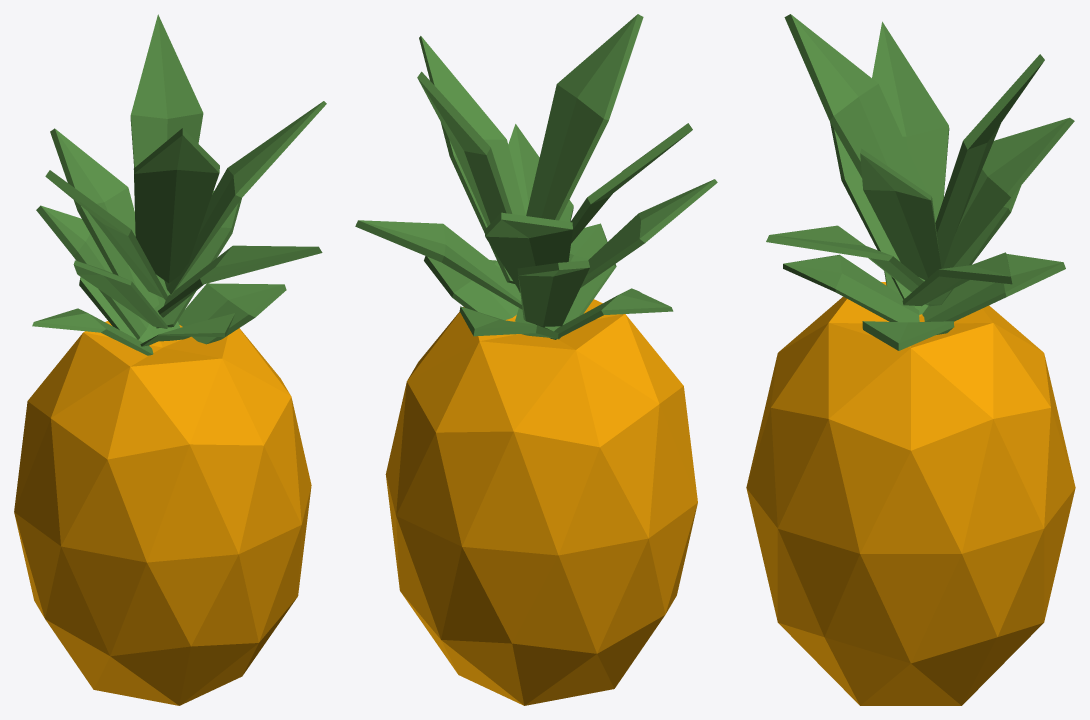
File: Pineapple_01.fbx
3 renders of one model, left to right at view 1: azimuth 30°, elevation 25°; view 2: azimuth 150°, elevation 25°; view 3: azimuth 270°, elevation 25°, orthographic. The views are drawn at different scales.
Parts seen in each view (by area): view 1: Pineapple_01; view 2: Pineapple_01; view 3: Pineapple_01.
Boxes of the visible parts, box(x1,y1,x2,y2) form: Pineapple_01: box(14, 14, 326, 705); Pineapple_01: box(355, 14, 717, 705); Pineapple_01: box(746, 14, 1075, 705).
Bounding box in the file's own units: 14.12 × 30.48 × 13.7.
